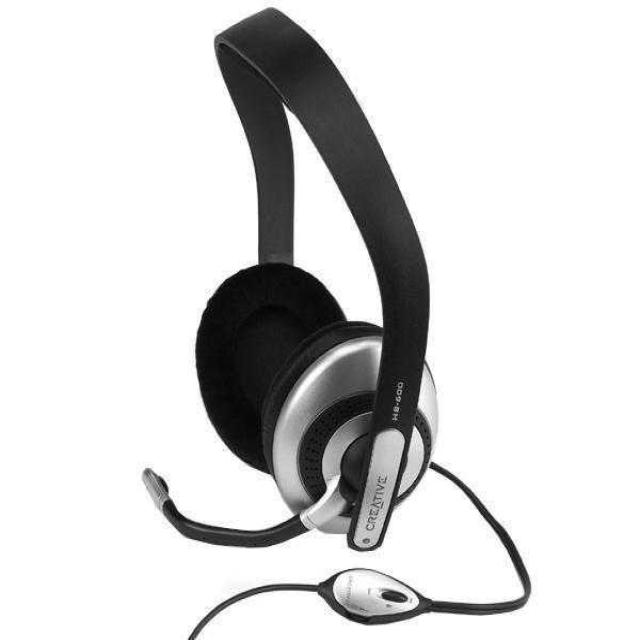microphone: (143, 469, 317, 546)
